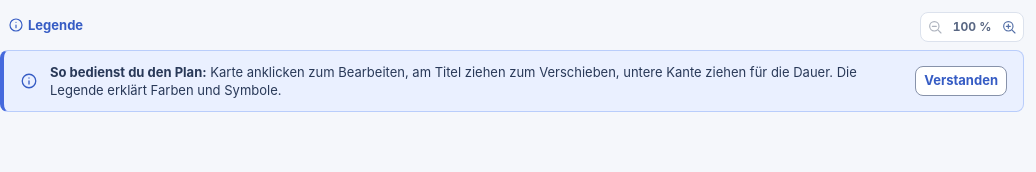
it: shows the usage hint once until it is dismissed
Click the button "Verstanden" at (961, 81), box 915,66 -> 1007,96
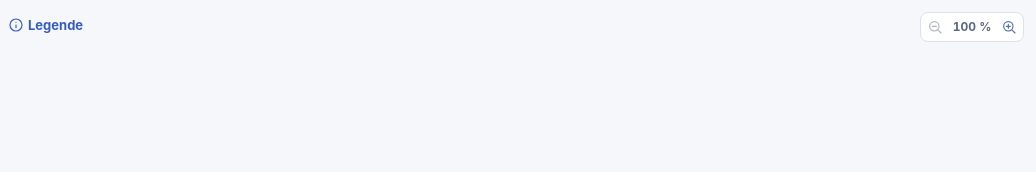
Check: the element "Bedienhinweis" is gone
